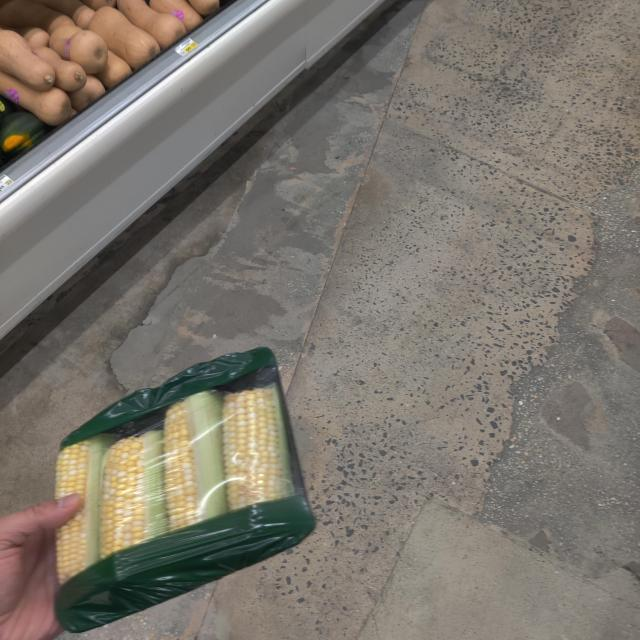Corn: (48, 343, 324, 640)
